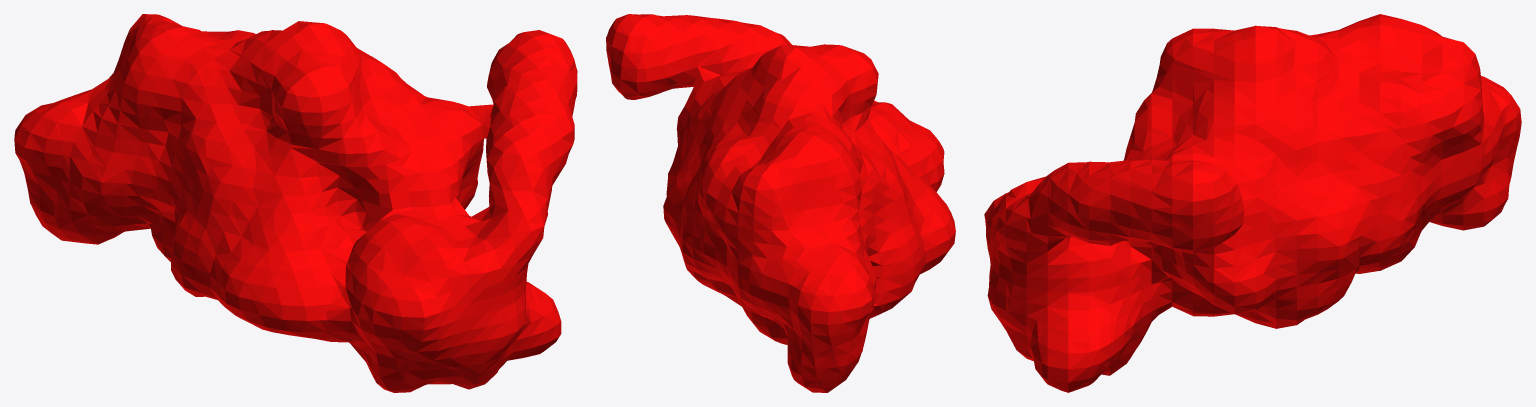
Rendered from fliI_coarse.dae.
3 renders of one model, left to right at view 1: azimuth 30°, elevation 25°; view 2: azimuth 150°, elevation 25°; view 3: azimuth 270°, elevation 25°, orthographic. The views are drawn at different scales.
Parts seen in each view (by area): view 1: fliI; view 2: fliI; view 3: fliI.
Boxes of the visible parts, left/top/right/bottom form: fliI: left=14, top=14, right=577, bottom=392; fliI: left=606, top=14, right=955, bottom=392; fliI: left=984, top=14, right=1521, bottom=392.
Bounding box in the file's own units: 76.81 × 54.95 × 84.19.
